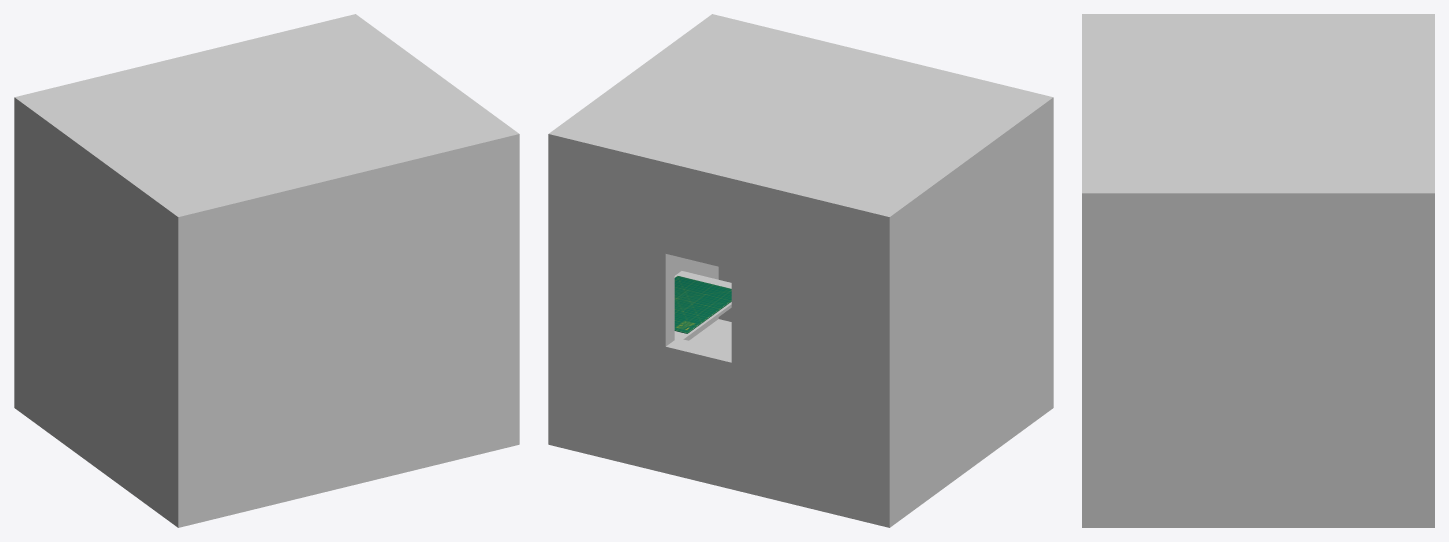
Rendered from Dummy Room.fbx.
The picture shows the model from 3 angles, left to right: view 1: azimuth 30°, elevation 25°; view 2: azimuth 150°, elevation 25°; view 3: azimuth 270°, elevation 25°; orthographic projection. The views are drawn at different scales.
Parts seen in each view (by area): view 1: Plane.009; view 2: Plane.009, Gameplay, Plane.010; view 3: Plane.009.
Boxes of the visible parts, box(x1,y1,x2,y2) form: Plane.009: box(14, 14, 519, 527); Plane.009: box(548, 14, 1053, 527); Gameplay: box(674, 276, 731, 333); Plane.010: box(674, 271, 731, 353); Plane.009: box(1082, 14, 1434, 527).
Bounding box in the file's own units: 359 × 313 × 299.
10 materials, 1 textured.
